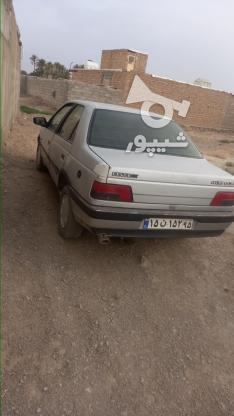car: (144, 216, 197, 230)
